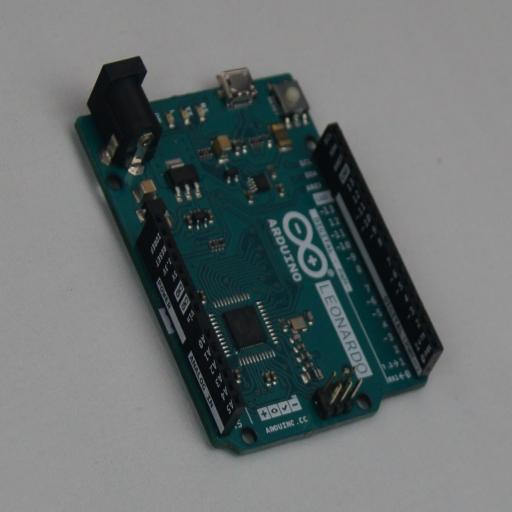Arduino Leonardo: (72, 56, 444, 456)
